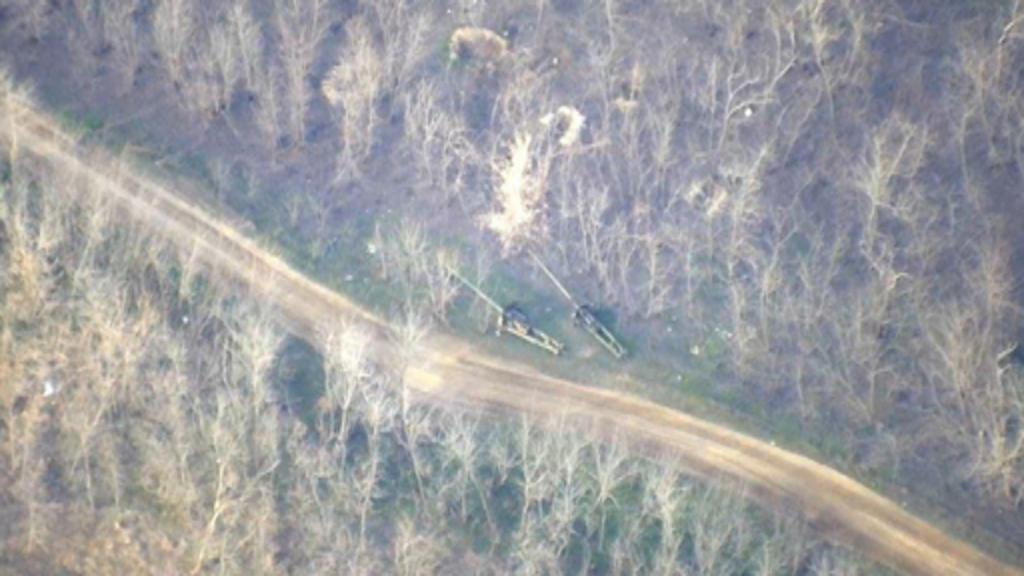ART: (440, 255, 562, 354), (526, 247, 630, 358)
